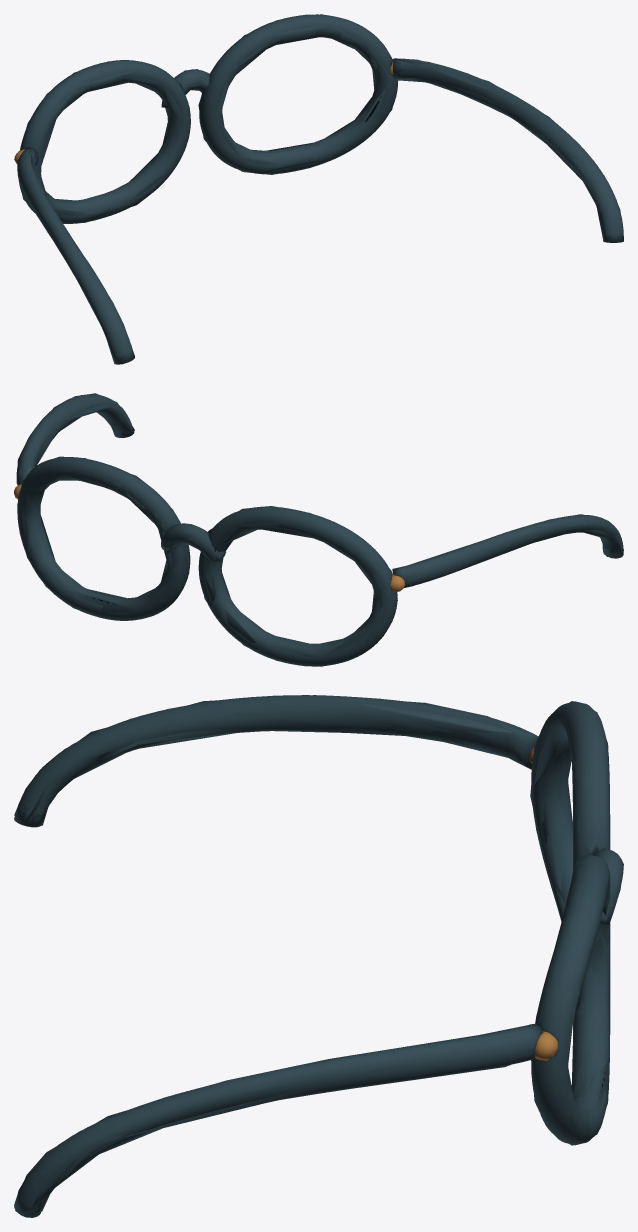
The model's file is round-glasses.glb.
3 views of the same model, one above another, from view 1: azimuth 30°, elevation 25°; view 2: azimuth 150°, elevation 25°; view 3: azimuth 270°, elevation 25° (orthographic). The views are drawn at different scales.
Visible parts, largest first — view 1: near, mid, far; view 2: near, mid, far; view 3: near, mid, far.
Part boxes in pixels (x1=…): near: x1=14, y1=14, x2=623, y2=364; mid: x1=15, y1=14, x2=623, y2=364; far: x1=14, y1=14, x2=622, y2=364; near: x1=14, y1=394, x2=623, y2=666; mid: x1=14, y1=395, x2=623, y2=666; far: x1=15, y1=393, x2=623, y2=666; near: x1=14, y1=695, x2=623, y2=1217; mid: x1=14, y1=695, x2=623, y2=1217; far: x1=14, y1=695, x2=623, y2=1217.
Size of the model in its own units: 1.09 by 0.308 by 0.6892.
2 materials, 2 textured.
